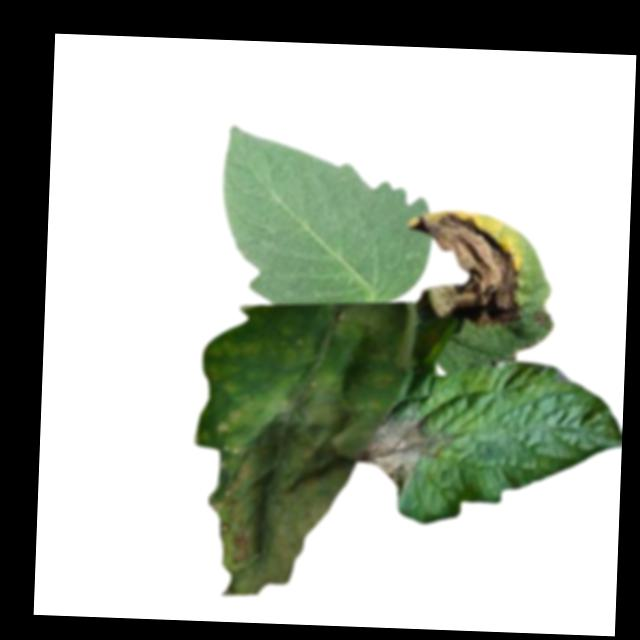Late_blight: (188, 300, 411, 601), (403, 210, 529, 328), (357, 410, 464, 503), (533, 308, 551, 330)
healthy: (218, 125, 433, 309)
